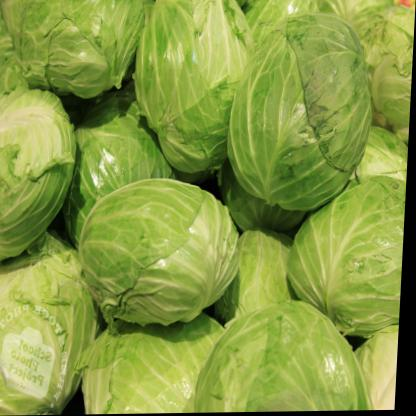cabbage: (224, 14, 375, 218), (72, 175, 244, 341), (129, 0, 254, 185), (183, 296, 378, 414), (0, 79, 90, 280)
